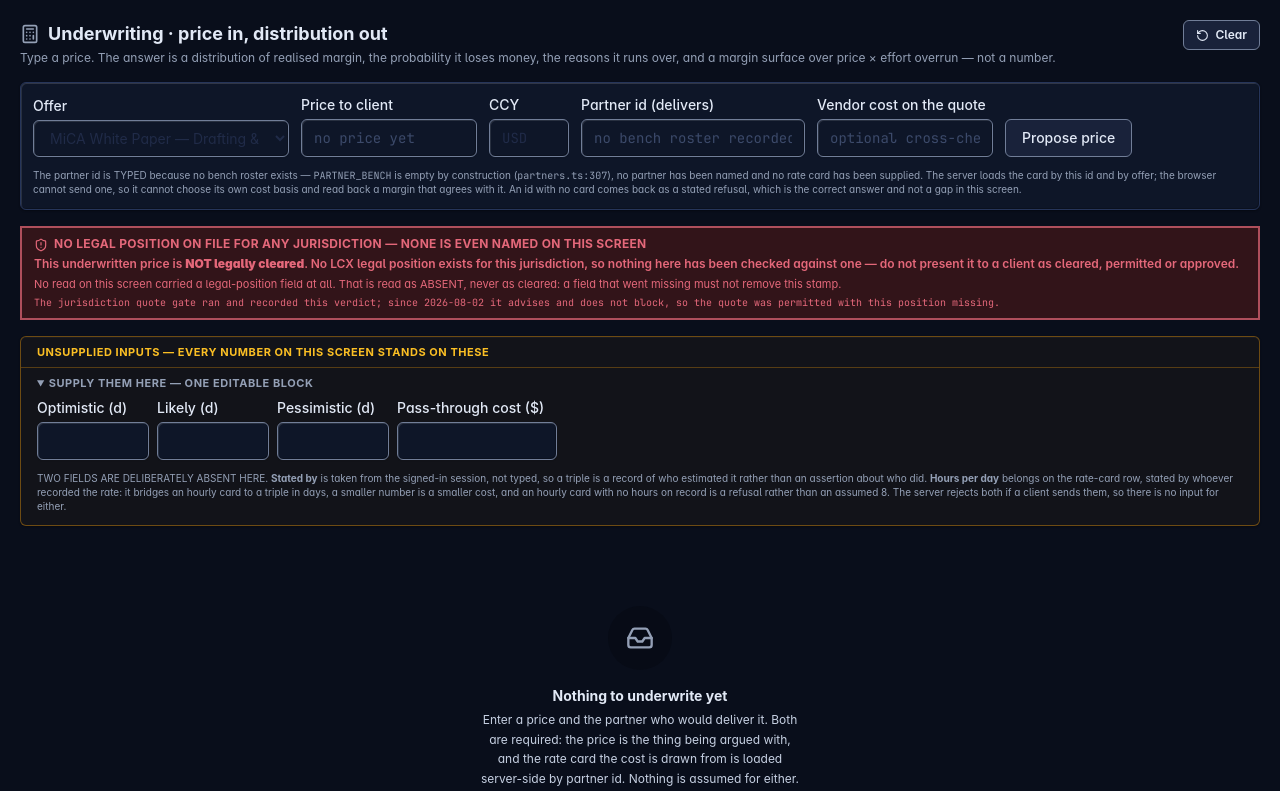
the promised surface is what actually arrives › describes a feature the sheet actually has, and states what it cannot be read for
Type "25000" into the field with test id "price-input" at (389, 138), box [301,119,477,157]
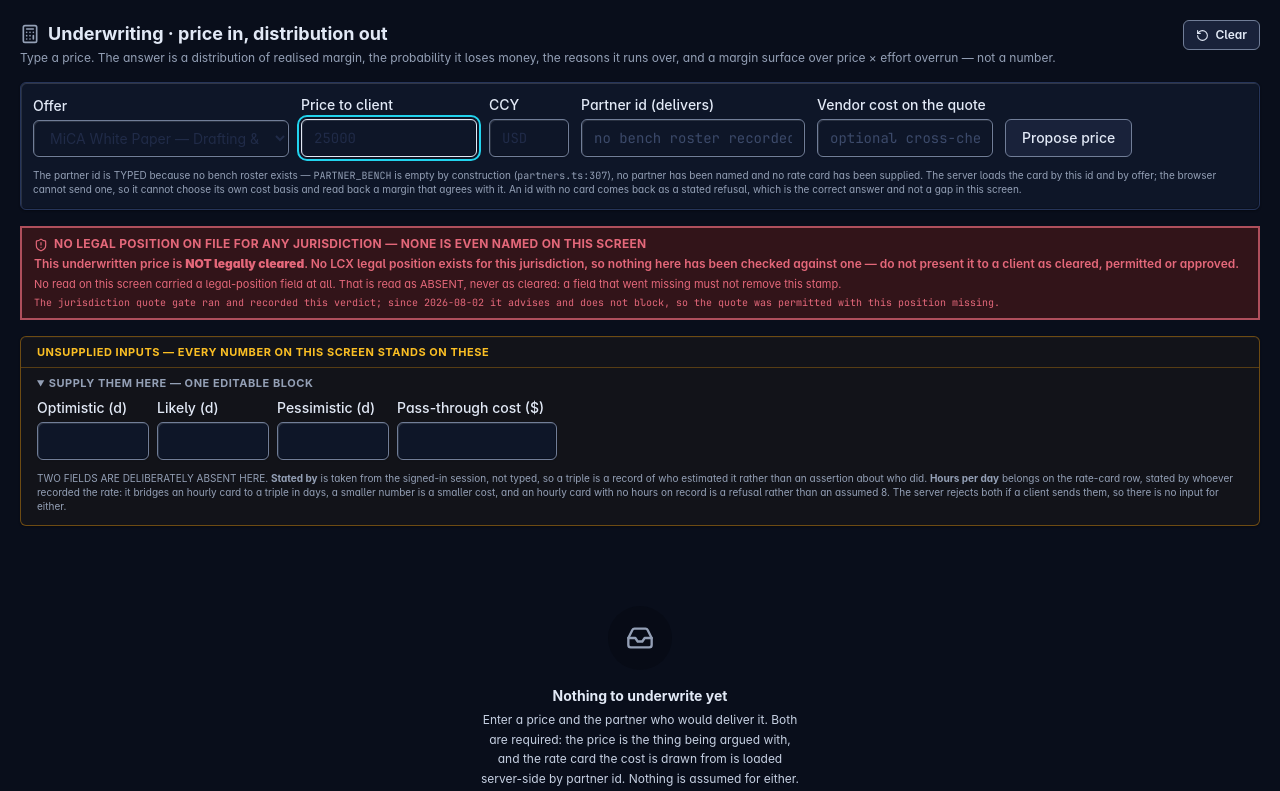
Type "partner-1" into the field with test id "partner-input" at (693, 138), box [581,119,805,157]
(page scrolled)
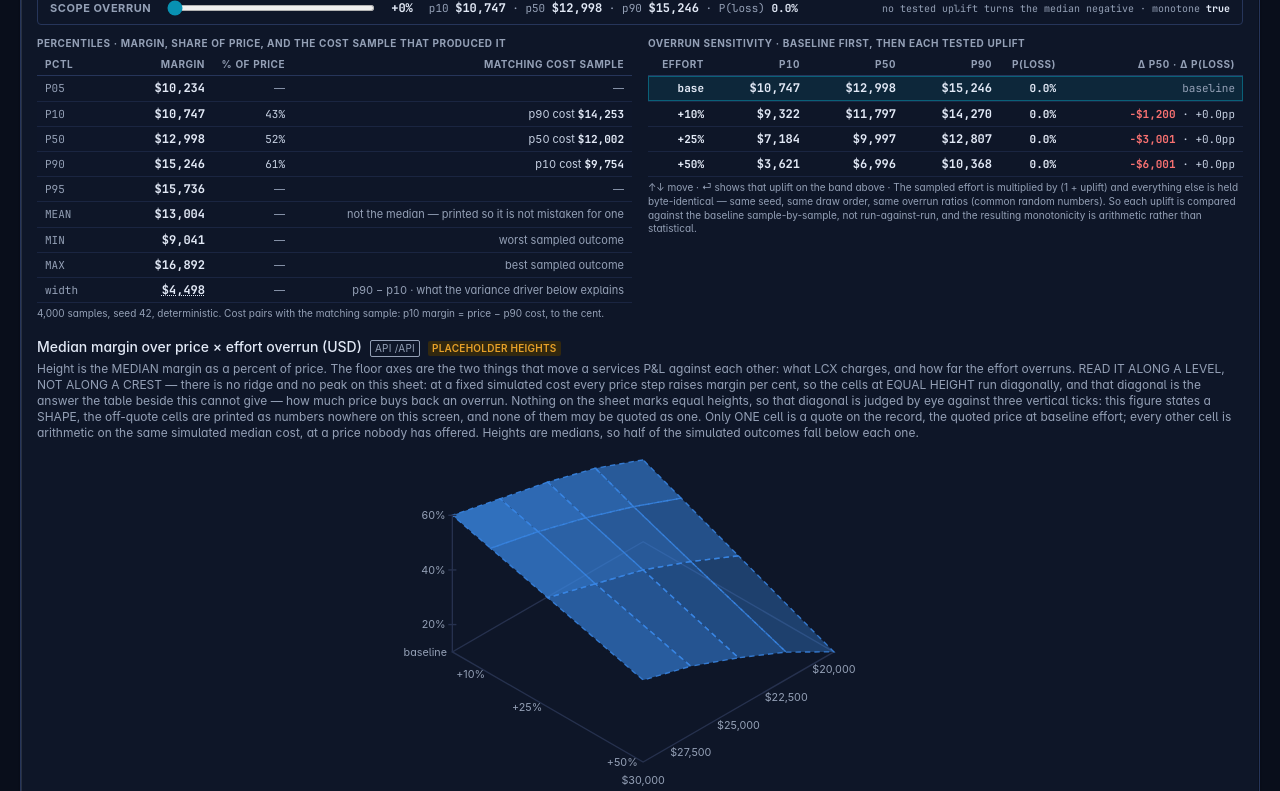
Result: the text with test id "surface-reads-as" shows "no ridge" at [37,361,1231,440]
